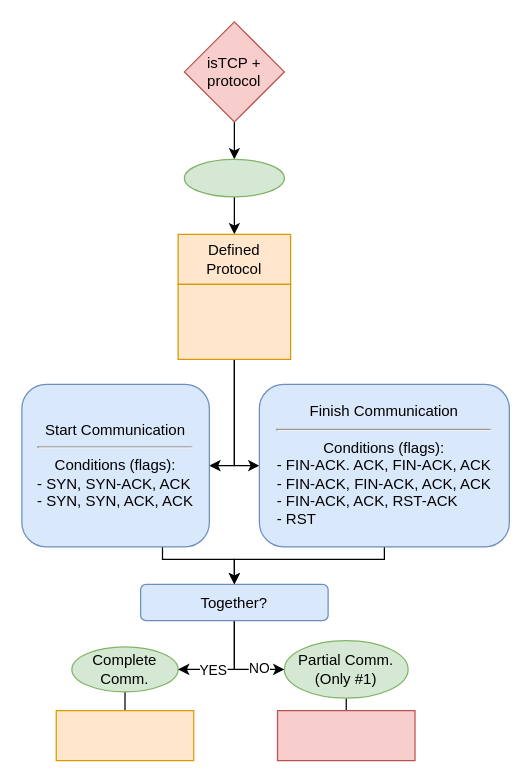
Image size: 531x784. Some labels were removed from this diagram. Here are the shapes that lost their labels. From the top down, the centre of each, then its label:
At point 233,177: "Filter".
At point 234,321: "Sort: - src_ip - dst_ip".
At point 124,735: "List of communications".
At point 345,735: "Communications".
